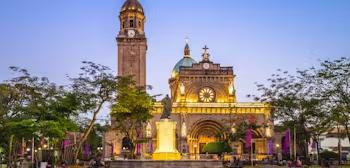manila_cathedral_church_intramuros_manila: (104, 1, 278, 165)
